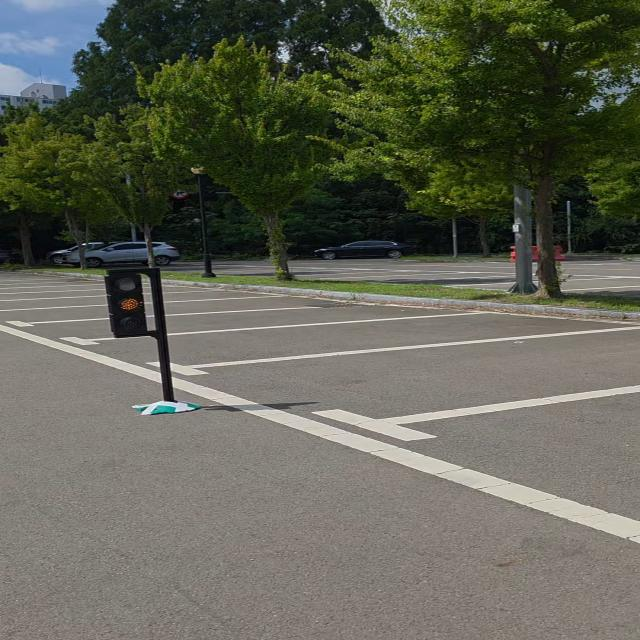yellow: (99, 269, 157, 343)
